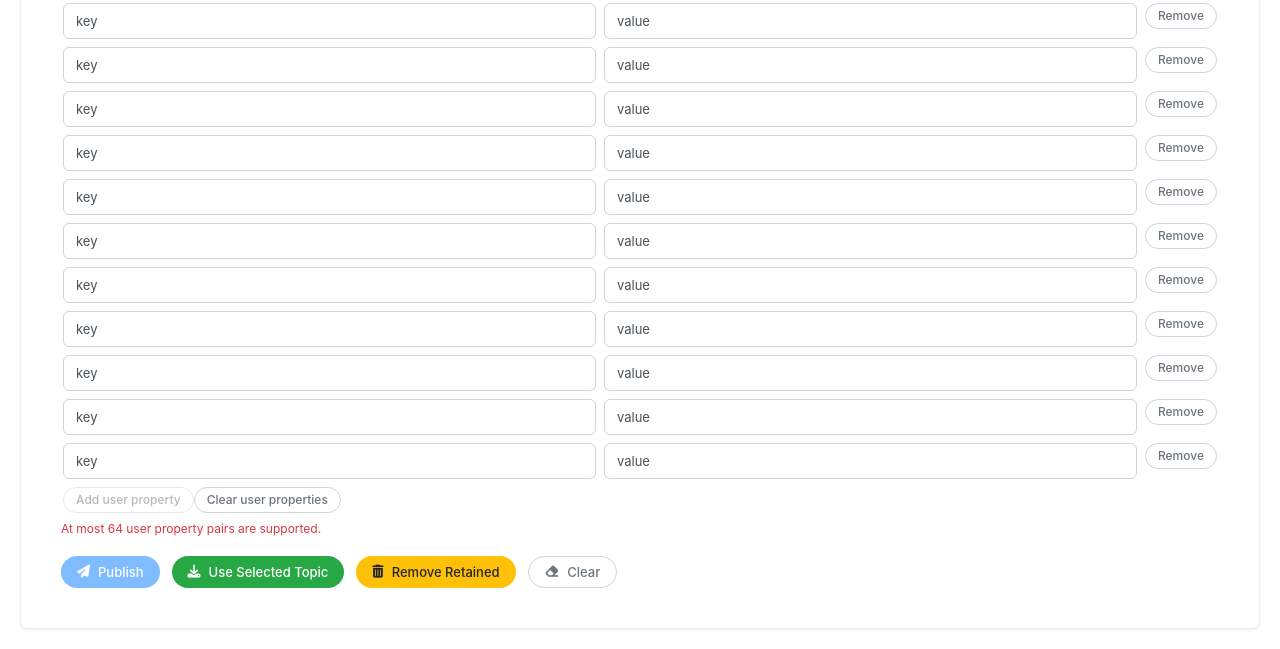
Test: bounds oversized saved property lists and lets the user clear them before publishing
(page scrolled)
Expected: the button "Publish" is disabled, [61, 556, 160, 588]
Click the button "Clear user properties". click: (267, 500)
box: [194, 487, 341, 513]
(page scrolled)
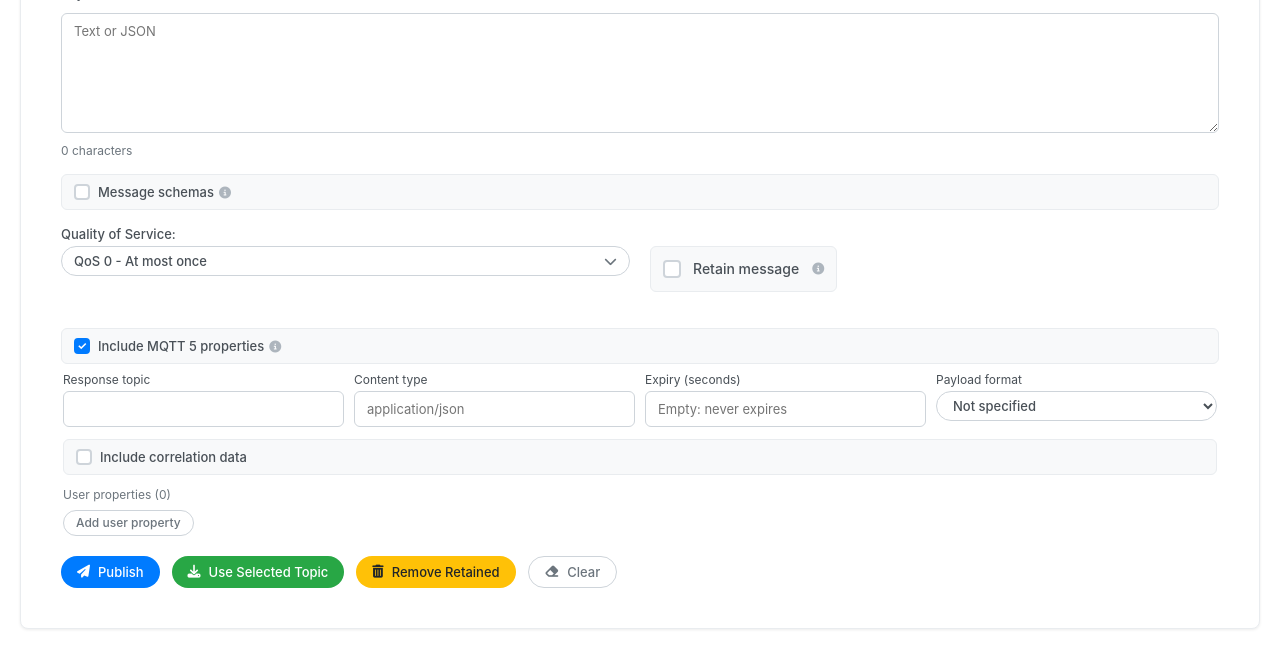
Now the button "Publish" is enabled, box [61, 556, 160, 588]
